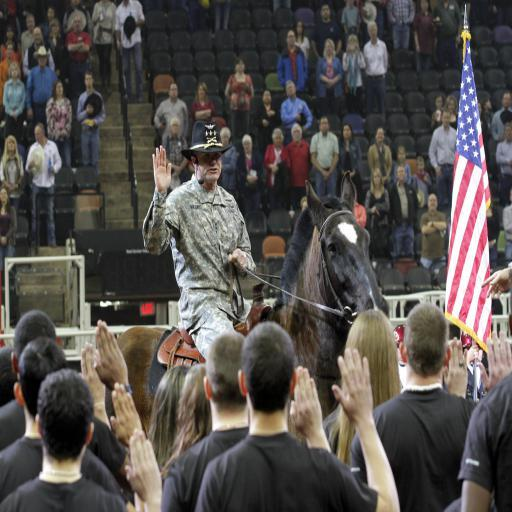Horse: (104, 170, 394, 438)
